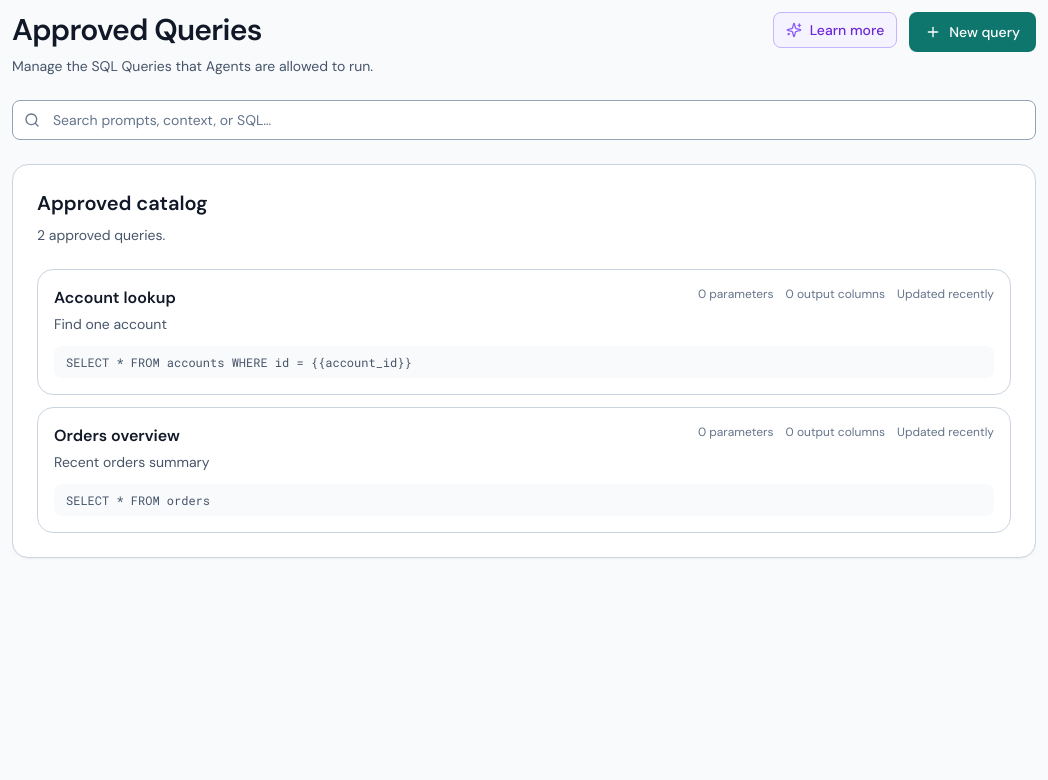
Test case: ApprovedQueriesPage › filters the list by the search input
Expected: the text "Account lookup" is shown, [54,286,176,310]
Expected: the text "Orders overview" is shown, [54,425,180,446]
Type "orders" into the field with placeholder "Search prompts, context, or SQL…".
click(524, 120); type("orders")  # box [12,100,1036,140]
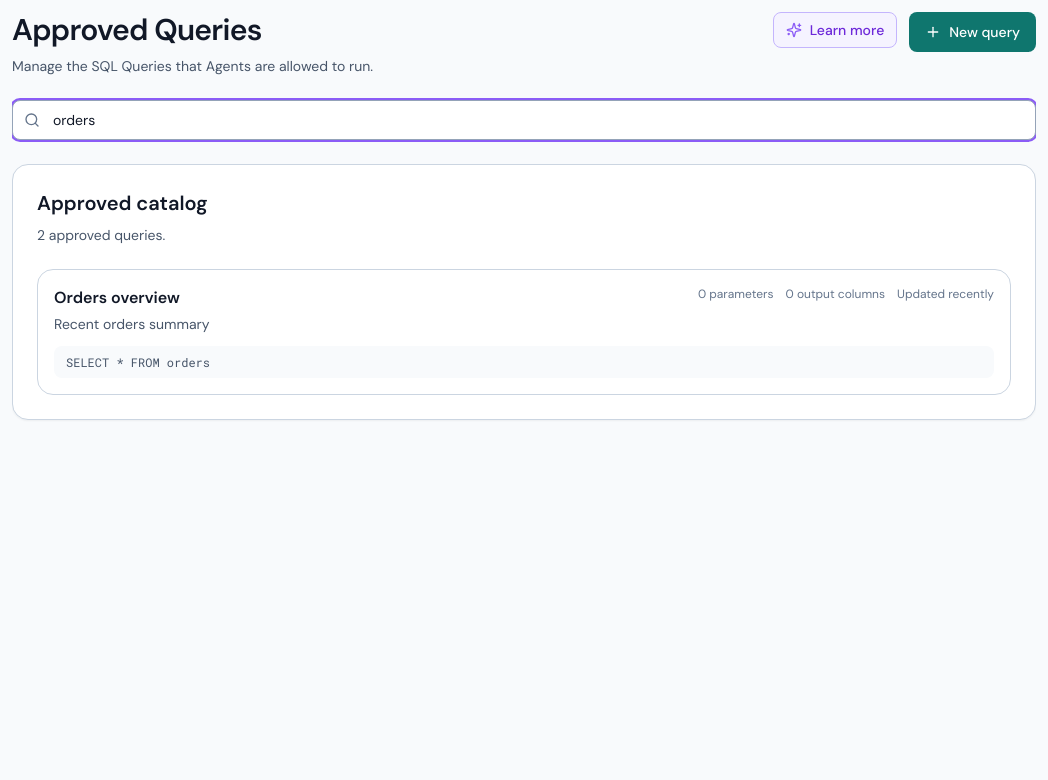
Expected: the text "Orders overview" is shown, [54,287,180,308]
Result: the button "Account lookup" is gone
